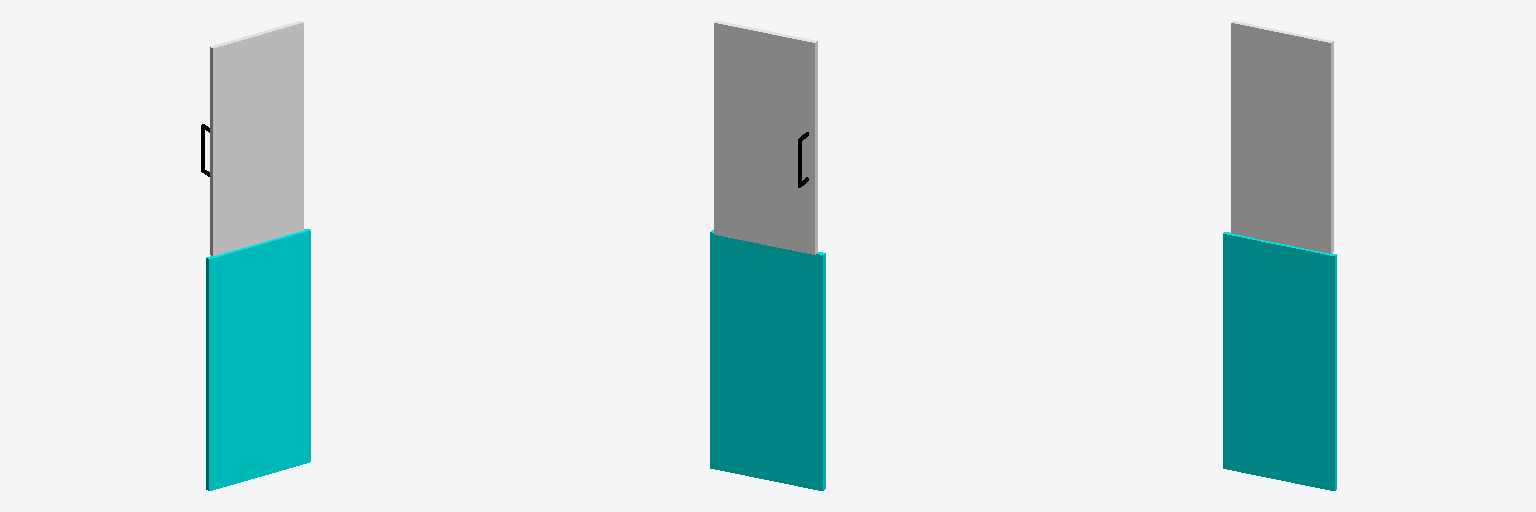
URDF robot description (shelf):
<?xml version="1.0" ?>
<!-- =================================================================================== -->
<!-- |    This document was autogenerated by xacro from shelf.urdf.xacro               | -->
<!-- |    EDITING THIS FILE BY HAND IS NOT RECOMMENDED                                 | -->
<!-- =================================================================================== -->
<robot name="shelf">
  <link name="world"/>
  <joint name="fixed" type="fixed">
    <parent link="world"/>
    <child link="shelf"/>
    <origin rpy="0.0 0.0 1.645" xyz="-0.242 -0.595 0.834"/>
  </joint>
  <gazebo>
    <plugin filename="libgazebo_ros_control.so" name="gazebo_ros_control">
      <robotNamespace>/shelf</robotNamespace>
      <robotParam>urdf_object </robotParam>
    </plugin>
  </gazebo>

  <link name="shelf">
    <inertial>
      <origin rpy="0 0 0" xyz="0 -0.2 0"/>
      <mass value="5"/>
      <inertia ixx="0.356339074" ixy="0" ixz="0" iyy="0.28983401999999997" iyz="0" izz="0.066774946"/>
    </inertial>
    <visual>
      <origin rpy="0 0 0" xyz="0 -0.2 -0.417"/>
      <geometry>
        <box size="0.018 0.4 0.834"/>
      </geometry>
      <material name="shelf_material">
        <color rgba="0.0 1.0 1.0 1"/>
      </material>
    </visual>
  </link>

  <link name="door">
    <inertial>
      <origin rpy="0 0 0" xyz="0 -0.1795 0"/>
      <mass value="3.0"/>
      <inertia ixx="0.1720274115" ixy="0" ixz="0" iyy="0.1399010172" iyz="0" izz="0.0322883295"/>
    </inertial>
    <visual>
      <origin rpy="0 0 0" xyz="-0.009 0.1795 0"/>
      <geometry>
        <box size="0.018 0.359 0.748"/>
      </geometry>
      <material name="door_material">
        <color rgba="1.0 1.0 1.0 1"/>
      </material>
    </visual>
    <collision>
      <origin rpy="0 0 0" xyz="0 0.1795 0"/>
      <geometry>
        <box size="0.018 0.359 0.748"/>
      </geometry>
      <material name="">
        <contact name="rubber"/>
      </material>
    </collision>
  </link>

  <link name="door_hinge">
    <inertial>
      <mass value="0.01"/>
      <origin rpy="0 0 0" xyz="0.0 0 0"/>
      <inertia ixx="0.0" ixy="0.0" ixz="0.0" iyy="0.0" iyz="0.0" izz="0.0"/>
    </inertial>
  </link>


  <joint name="door_hinge_joint" type="fixed">
    <parent link="shelf"/>
    <child link="door_hinge"/>
    <origin xyz="0.020999999999999998 -0.381 0.374"/>
  </joint>

  <link name="axis_link">
    <inertial>
      <mass value="0.01"/>
      <origin rpy="0 0 0" xyz="0 0 0"/>
      <inertia ixx="0.0" ixy="0.0" ixz="0.0" iyy="0.0" iyz="0.0" izz="0.0"/>
    </inertial>
  </link>

  <joint name="axis_joint" type="fixed">
    <parent link="door_hinge"/>
    <child link="axis_link"/>
    <origin xyz="0.0 0.0 0.0"/>
  </joint>
  <joint name="articulation_joint" type="revolute">
    <parent link="axis_link"/>
    <child link="measured_joint_link"/>
    <dynamics damping="0.0" friction="0.0"/>
    <origin xyz="0 0 0"/>
    <axis xyz="0 0 -1"/>
    <limit effort="100" lower="0" upper="1.75" velocity="10.0"/>
  </joint>
  <joint name="door_link" type="fixed">
    <parent link="measured_joint_link"/>
    <child link="door"/>
    <origin xyz="0.0 0.0 0.0"/>
  </joint>
  
  <link name="handle_link">
    <inertial>
      <origin rpy="0 0 0" xyz="0 0 0"/>
      <mass value="0.1"/>
      <inertia ixx="0.001" ixy="0" ixz="0" iyy="0.001" iyz="0" izz="0.001"/>
    </inertial>
    <visual>
      <origin rpy="0 0 0" xyz="0 0 0"/>
      <geometry>
        <box size="0.01 0.01 0.17"/>
      </geometry>
      <material name="handle_material">
        <color rgba="0.0 0.0 0.0 1"/>
      </material>
    </visual>
    <collision>
      <origin rpy="0 0 0" xyz="0 0 0"/>
      <geometry>
        <box size="0.01 0.01 0.17"/>
      </geometry>
      <material name="">
        <contact name="rubber"/>
      </material>
    </collision>
  </link>
  
  <link name="handle_support_left">
    <inertial>
      <origin rpy="0 0 0" xyz="0 0 0"/>
      <mass value="0.1"/>
      <inertia ixx="0.001" ixy="0" ixz="0" iyy="0.001" iyz="0" izz="0.001"/>
    </inertial>
    <visual>
      <origin rpy="0 0 0" xyz="0 0 0"/>
      <geometry>
        <box size="0.057 0.01 0.01"/>
      </geometry>
      <material name="handle_material">
        <color rgba="0.0 0.0 0.0 1"/>
      </material>
    </visual>
    <collision>
      <origin rpy="0 0 0" xyz="0 0 0"/>
      <geometry>
        <box size="0.057 0.01 0.01"/>
      </geometry>
      <material name="">
        <contact name="rubber"/>
      </material>
    </collision>
  </link>

  <link name="handle_support_right">
    <inertial>
      <origin rpy="0 0 0" xyz="0 0 0"/>
      <mass value="0.1"/>
      <inertia ixx="0.001" ixy="0" ixz="0" iyy="0.001" iyz="0" izz="0.001"/>
    </inertial>
    <visual>
      <origin rpy="0 0 0" xyz="0 0 0"/>
      <geometry>
        <box size="0.057 0.01 0.01"/>
      </geometry>
      <material name="handle_material">
        <color rgba="0.0 0.0 0.0 1"/>
      </material>
    </visual>
    <collision>
      <origin rpy="0 0 0" xyz="0 0 0"/>
      <geometry>
        <box size="0.057 0.01 0.01"/>
      </geometry>
      <material name="">
        <contact name="rubber"/>
      </material>
    </collision>
  </link>
  <joint name="handle_joint" type="fixed">
    <parent link="door"/>
    <child link="handle_link"/>
    <origin rpy="0 0 0" xyz="0.069 0.338 -0.024"/>
    <!-- height handle + half the width door, 0.30 minus some offset -->
  </joint>
  
  <joint name="handle_ref" type="fixed">
    <parent link="handle_link"/>
    <child link="handle_ref"/>
    <origin rpy="0 0 0" xyz="-0.050 0 0"/> <!-- was -0.0405 -->
    <!-- height handle + half the width door, 0.30 minus some offset -->
  </joint>
  
  <link name="handle_ref">
    <inertial>
      <mass value="0.0"/>
      <origin rpy="0 0 0" xyz="0 0 0"/>
      <inertia ixx="0.0" ixy="0.0" ixz="0.0" iyy="0.0" iyz="0.0" izz="0.0"/>
    </inertial>
  </link>

  <joint name="handle_support_left_joint" type="fixed">
    <parent link="handle_link"/>
    <child link="handle_support_left"/>
    <origin rpy="0 0 0" xyz="-0.0285 0 -0.08"/>
  </joint>
  
  <joint name="handle_support_right_joint" type="fixed">
    <parent link="handle_link"/>
    <child link="handle_support_right"/>
    <origin rpy="0 0 0" xyz="-0.0285 0 0.08"/>
  </joint>
  <link name="measured_joint_link">
    <inertial>
      <mass value="0.01"/>
      <origin rpy="0 0 0" xyz="0 0 0"/>
      <inertia ixx="0.0" ixy="0.0" ixz="0.0" iyy="0.0" iyz="0.0" izz="0.0"/>
    </inertial>
  </link>
  <link name="measured_joint_link_test">
    <inertial>
      <mass value="0.01"/>
      <origin rpy="0 0 0" xyz="0 0 0"/>
      <inertia ixx="0.0" ixy="0.0" ixz="0.0" iyy="0.0" iyz="0.0" izz="0.0"/>
    </inertial>
  </link>
  <joint name="measured_test_handle_joint" type="fixed">
    <parent link="handle_link"/>
    <child link="measured_joint_link_test"/>
    <origin rpy="0 0 0" xyz="-0.06 -0.243 0.0"/>
  </joint>
  <transmission name="hinge">
    <type>transmission_interface/SimpleTransmission</type>
    <joint name="articulation_joint">
      <hardwareInterface>EffortJointInterface</hardwareInterface>
    </joint>
    <actuator name="motor1">
      <hardwareInterface>EffortJointInterface</hardwareInterface>
      <mechanicalReduction>1</mechanicalReduction>
    </actuator>
  </transmission>
</robot>

--- Facts derived from the render (not from the file) ---
The picture shows the robot from 3 angles, left to right: view 1: azimuth 30°, elevation 25°; view 2: azimuth 150°, elevation 25°; view 3: azimuth 330°, elevation 25°; orthographic projection.
Model shelf with 11 links and 10 joints (1 revolute, 9 fixed), rooted at world, posed every joint at zero.
Links seen in each view (by area): view 1: shelf, door; view 2: shelf, door; view 3: shelf, door.
Boxes of the visible links, x1,y1,x2,y2 form: shelf: [206, 229, 310, 490]; door: [210, 21, 303, 255]; shelf: [710, 230, 825, 490]; door: [714, 21, 817, 254]; shelf: [1223, 232, 1336, 490]; door: [1231, 21, 1333, 253].
Bounding box of the posed robot: 0.4002 × 0.1073 × 1.58 m (x, y, z).
Geometry: primitives only (box / cylinder / sphere), no mesh files.